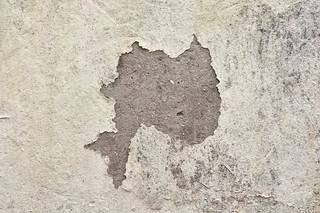Spalling: (82, 32, 221, 190)
